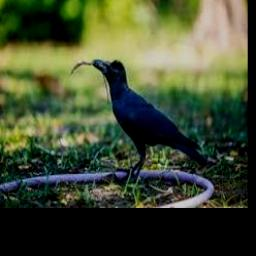Crow: (93, 60, 214, 175)
